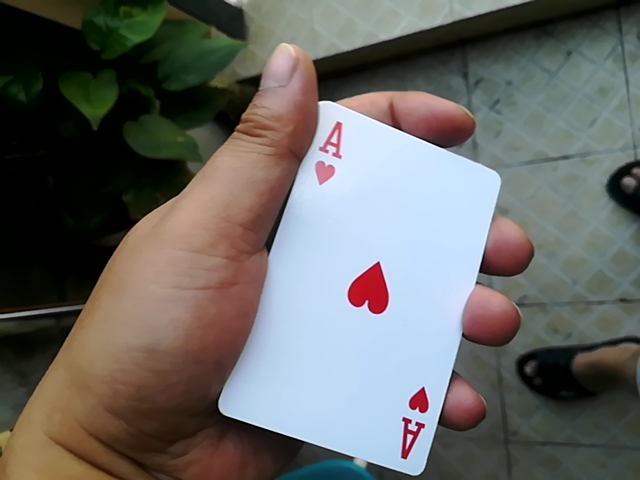hx a: (214, 93, 477, 467)
